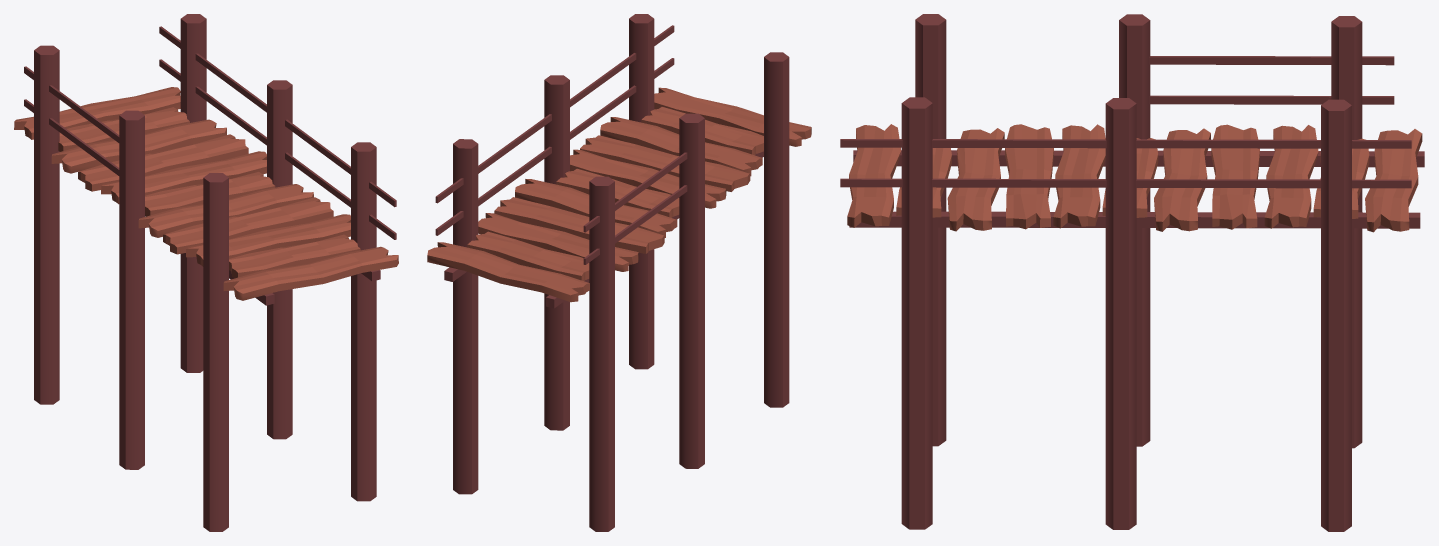
Rendered from env_pier_half_railing.fbx.
3 renders of one model, left to right at view 1: azimuth 30°, elevation 25°; view 2: azimuth 150°, elevation 25°; view 3: azimuth 270°, elevation 25°, orthographic. The views are drawn at different scales.
Parts seen in each view (by area): view 1: env_pier_half_railing.002; view 2: env_pier_half_railing.002; view 3: env_pier_half_railing.002.
Boxes of the visible parts, left/top/right/bottom form: env_pier_half_railing.002: left=14, top=14, right=398, bottom=531; env_pier_half_railing.002: left=427, top=14, right=811, bottom=531; env_pier_half_railing.002: left=840, top=14, right=1424, bottom=531.
Bounding box in the file's own units: 560 × 1400 × 1113.
